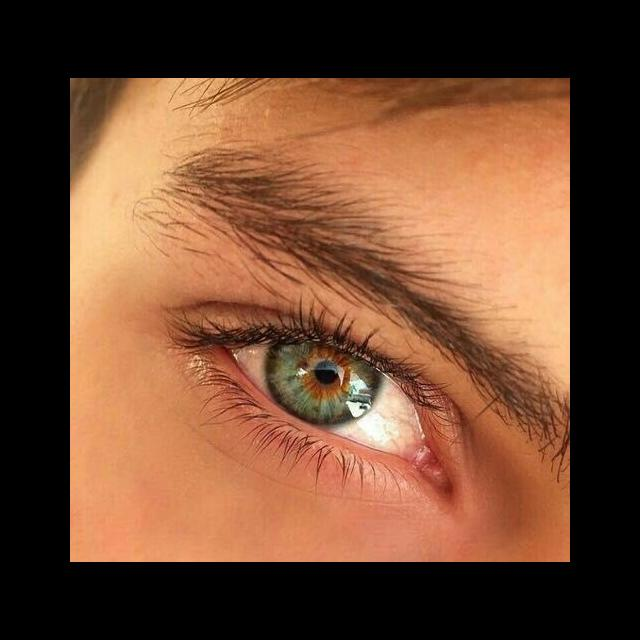eye: (222, 338, 423, 465)
iris: (263, 341, 385, 427)
